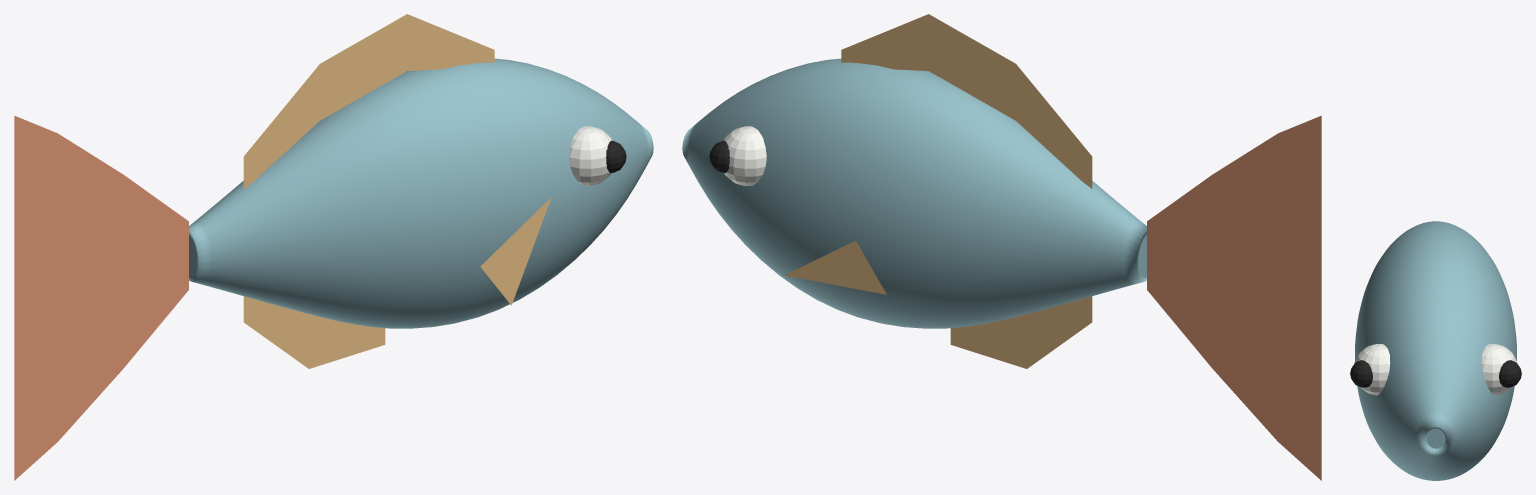
Rendered from guppy.glb.
The picture shows the model from 3 angles, left to right: view 1: azimuth 30°, elevation 25°; view 2: azimuth 150°, elevation 25°; view 3: azimuth 270°, elevation 25°; orthographic projection. The views are drawn at different scales.
Parts seen in each view (by area): view 1: guppy_body, guppy_tail, guppy_dorsal, guppy_anal, guppy_pec_R, guppy_eyew_R; view 2: guppy_body, guppy_tail, guppy_dorsal, guppy_anal, guppy_pec_L, guppy_eyew_L; view 3: guppy_body, guppy_eyew_L, guppy_eyew_R, guppy_eye_L, guppy_eye_R.
Boxes of the visible parts, left/top/right/bottom form: guppy_body: left=189, top=58, right=653, bottom=328; guppy_tail: left=14, top=115, right=188, bottom=480; guppy_dorsal: left=243, top=14, right=494, bottom=188; guppy_anal: left=243, top=296, right=385, bottom=368; guppy_pec_R: left=480, top=197, right=551, bottom=305; guppy_eyew_R: left=569, top=126, right=612, bottom=185; guppy_body: left=682, top=58, right=1146, bottom=328; guppy_tail: left=1147, top=115, right=1321, bottom=480; guppy_dorsal: left=841, top=14, right=1092, bottom=188; guppy_anal: left=950, top=296, right=1092, bottom=368; guppy_pec_L: left=784, top=240, right=886, bottom=294; guppy_eyew_L: left=723, top=126, right=766, bottom=185; guppy_body: left=1355, top=221, right=1516, bottom=480; guppy_eyew_L: left=1481, top=344, right=1517, bottom=395; guppy_eyew_R: left=1354, top=344, right=1390, bottom=395; guppy_eye_L: left=1499, top=360, right=1521, bottom=387; guppy_eye_R: left=1350, top=360, right=1372, bottom=387.
Bounding box in the file's own units: 0.58 × 0.325 × 0.158.
